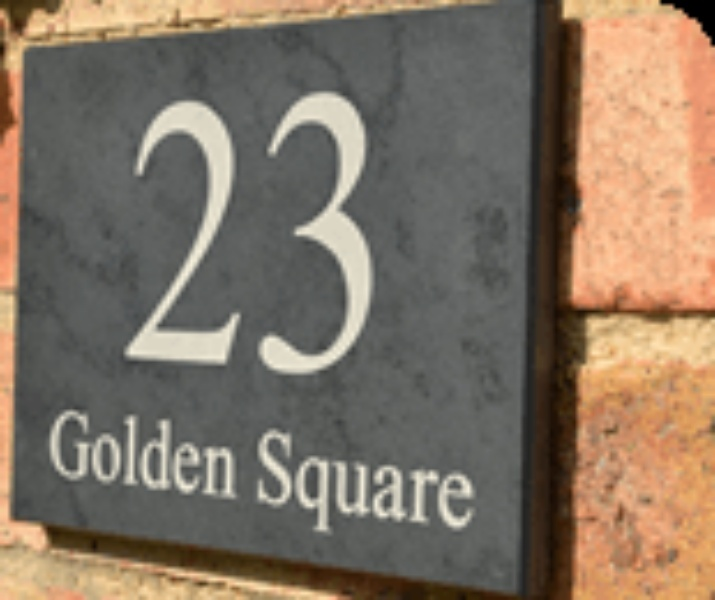text: (145, 88, 160, 379), (161, 88, 176, 379), (177, 88, 192, 379), (193, 88, 208, 379), (209, 88, 224, 379), (225, 88, 240, 379), (241, 88, 256, 379), (257, 88, 272, 379), (273, 88, 288, 379), (289, 88, 304, 379), (305, 88, 320, 379), (321, 88, 336, 379), (337, 88, 352, 379), (353, 88, 368, 379), (130, 88, 144, 379), (369, 88, 379, 379), (257, 421, 272, 554), (273, 421, 288, 554), (289, 421, 304, 554), (305, 421, 320, 554), (321, 421, 336, 554), (337, 421, 352, 554), (353, 421, 368, 554), (369, 421, 384, 554), (385, 421, 400, 554), (401, 421, 416, 554), (417, 421, 432, 554), (433, 421, 448, 554), (449, 421, 464, 554), (465, 421, 480, 554), (49, 397, 64, 504), (65, 397, 80, 504), (81, 397, 96, 504), (97, 397, 112, 504), (113, 397, 128, 504), (129, 397, 144, 504), (145, 397, 160, 504), (161, 397, 176, 504), (177, 397, 192, 504), (193, 397, 208, 504), (209, 397, 224, 504), (225, 397, 240, 504), (250, 421, 256, 554), (47, 397, 48, 504)
